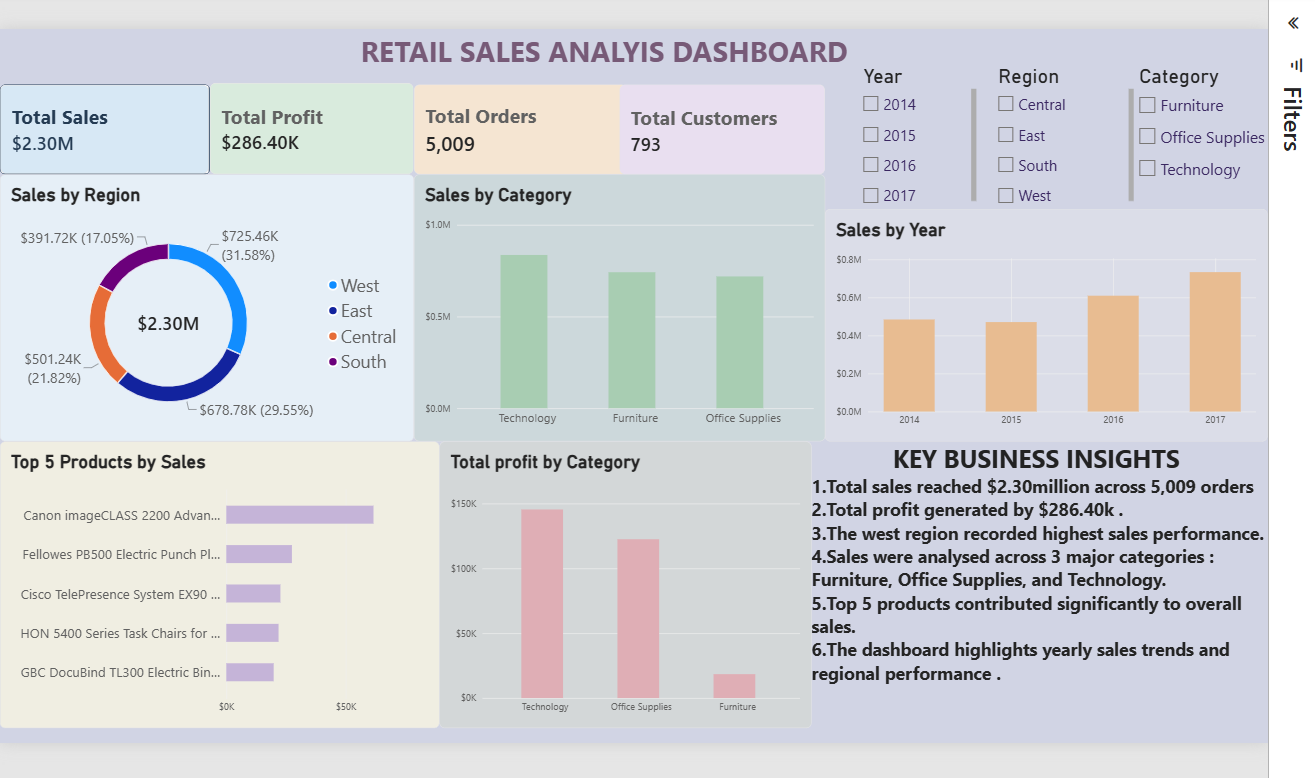

The dashboard page shown, as its layout file describes it:
{"tool":"powerbi","page":{"name":"Page 1","canvas":[1920,1080],"ordinal":0},"visuals":[{"type":"cardVisual","fields":{"Data":["superstore_cleaned.Total Sales Display"]},"box":[0,84,318,136.3],"z":0},{"type":"cardVisual","fields":{"Data":["superstore_cleaned.Total Profit Display"]},"box":[318,81.8,308.9,138.5],"z":1000},{"type":"cardVisual","fields":{"Data":["superstore_cleaned.Total Orders Display"]},"box":[626.9,84,322.5,136.3],"z":2000},{"type":"cardVisual","fields":{"Data":["superstore_cleaned.Total Customers"]},"box":[938,84,311.2,136.3],"z":3000},{"type":"donutChart","title":"Sales by Region","fields":{"Category":["superstore_cleaned.Region"],"Y":["Sum(superstore_cleaned.Sales)"]},"box":[0,220.3,626.9,404.3],"z":4000},{"type":"clusteredColumnChart","title":"Sales by Category","fields":{"Category":["superstore_cleaned.Category"],"Y":["Sum(superstore_cleaned.Sales)"]},"box":[626.9,220.3,622.3,404.3],"z":5000},{"type":"clusteredColumnChart","title":"Sales by Year","fields":{"Category":["superstore_cleaned.Order Date.Variation.Date Hierarchy.Year","superstore_cleaned.Order Date.Variation.Date Hierarchy.Quarter","superstore_cleaned.Order Date.Variation.Date Hierarchy.Month","superstore_cleaned.Order Date.Variation.Date Hierarchy.Day"],"Y":["Sum(superstore_cleaned.Sales)"]},"box":[1249.2,272.6,670,352.1],"z":6000},{"type":"clusteredBarChart","title":"Top 5 Products by Sales","fields":{"Category":["superstore_cleaned.Product Name"],"Y":["Sum(superstore_cleaned.Sales)"]},"box":[0,624.6,665.5,433.8],"z":7000},{"type":"clusteredColumnChart","title":"Total profit by Category","fields":{"Category":["superstore_cleaned.Category"],"Y":["Sum(superstore_cleaned.Profit)"]},"box":[665.5,624.6,563.3,433.8],"z":8000},{"type":"slicer","fields":{"Values":["superstore_cleaned.Year"]},"box":[1299.2,54.5,179.4,218],"z":9000},{"type":"slicer","fields":{"Values":["superstore_cleaned.Region"]},"box":[1503.6,54.5,213.5,218],"z":10000},{"type":"slicer","fields":{"Values":["superstore_cleaned.Category"]},"box":[1717.1,54.5,202.1,218],"z":11000},{"type":"textbox","box":[452,4.5,847.2,77.2],"z":12000},{"type":"textbox","box":[1228.8,624.6,690.5,454.3],"z":13000}]}

Visuals, with their boxes on the page's 1920x1080 design canvas (x1, y1, x2, y2). These are canvas units, not pixel positions in the 1315x778 screenshot, which may show the page scaled, cropped or inside an application window:
cardVisual - superstore_cleaned.Total Sales Display: 0/84/318/220
cardVisual - superstore_cleaned.Total Profit Display: 318/82/627/220
cardVisual - superstore_cleaned.Total Orders Display: 627/84/949/220
cardVisual - superstore_cleaned.Total Customers: 938/84/1249/220
"Sales by Region" donutChart: 0/220/627/625
"Sales by Category" clusteredColumnChart: 627/220/1249/625
"Sales by Year" clusteredColumnChart: 1249/273/1919/625
"Top 5 Products by Sales" clusteredBarChart: 0/625/666/1058
"Total profit by Category" clusteredColumnChart: 666/625/1229/1058
slicer - superstore_cleaned.Year: 1299/54/1479/272
slicer - superstore_cleaned.Region: 1504/54/1717/272
slicer - superstore_cleaned.Category: 1717/54/1919/272
textbox: 452/4/1299/82
textbox: 1229/625/1919/1079
